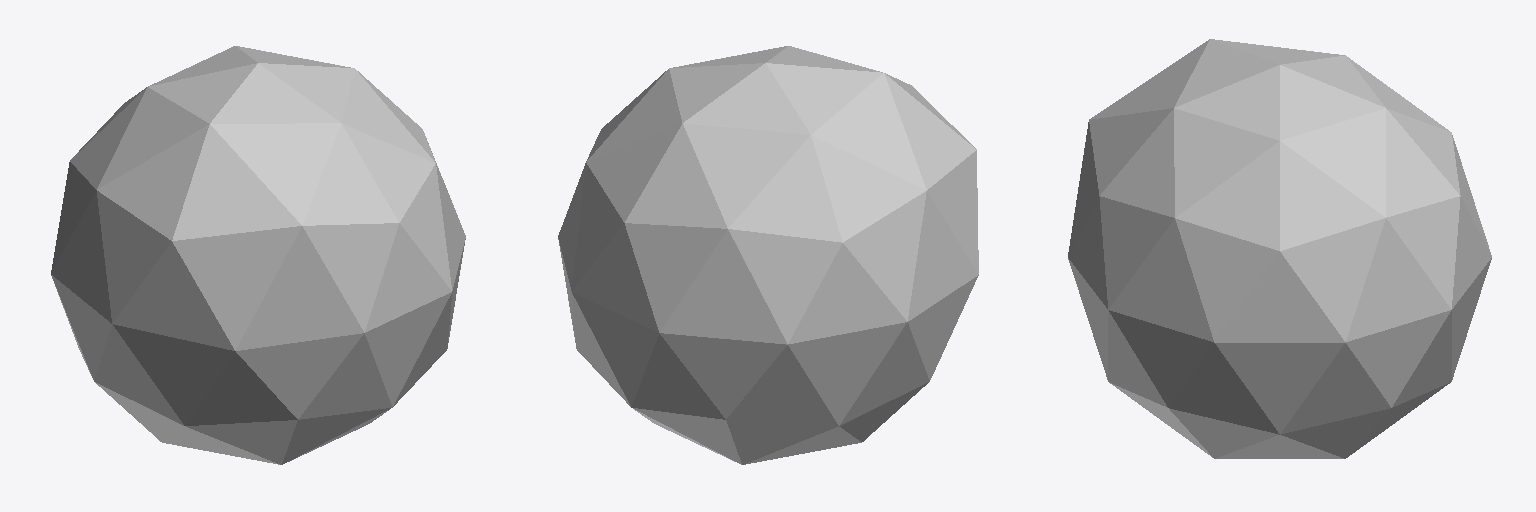
The model's file is Player1.obj.
3 renders of one model, left to right at view 1: azimuth 30°, elevation 25°; view 2: azimuth 150°, elevation 25°; view 3: azimuth 270°, elevation 25°, orthographic.
Visible parts, largest first — view 1: Icosphere; view 2: Icosphere; view 3: Icosphere.
Part boxes in pixels (x1,y1,x2,y2): Icosphere: (51, 46, 465, 464); Icosphere: (558, 46, 978, 464); Icosphere: (1068, 39, 1491, 458).
Size of the model in its own units: 1.93 by 2 by 2.